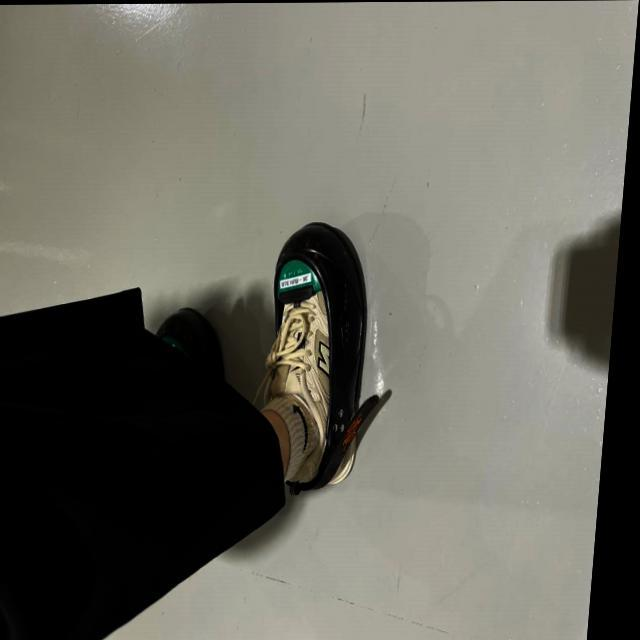shoes: (264, 216, 388, 495), (153, 297, 224, 380)
